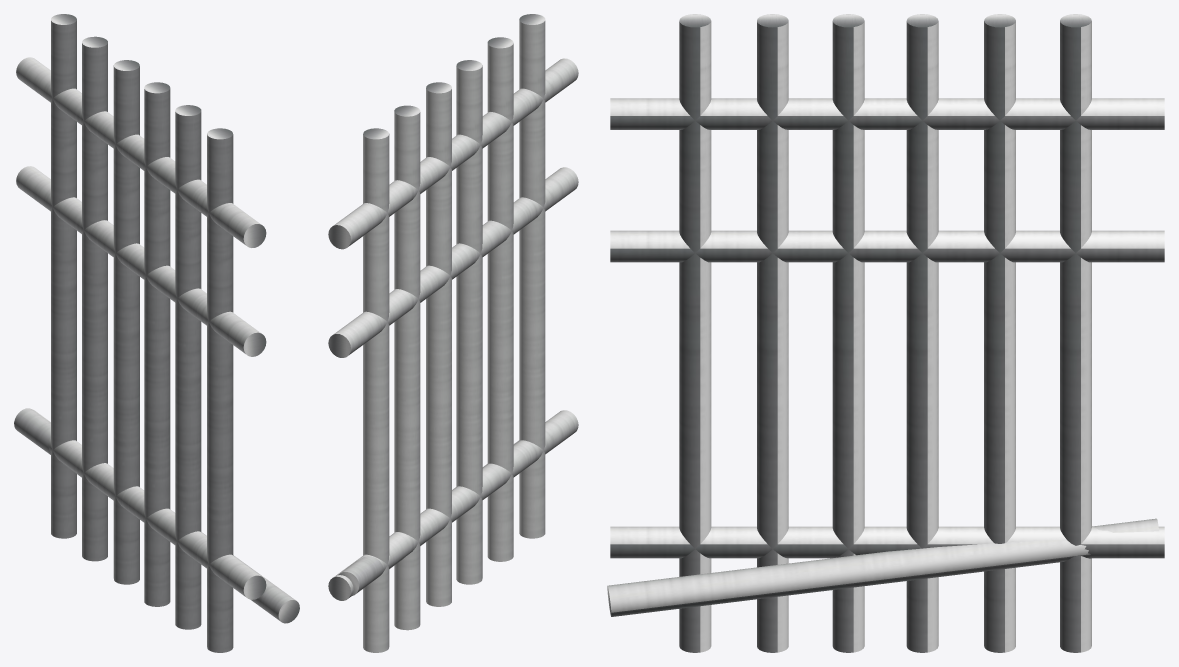
File: bar-anim.fbx
3 views of the same model, side by side, from view 1: azimuth 30°, elevation 25°; view 2: azimuth 150°, elevation 25°; view 3: azimuth 270°, elevation 25° (orthographic). The views are drawn at different scales.
Parts seen in each view (by area): view 1: pCylinder7, pCylinder10, pCylinder9, pCylinder8, pCylinder6, pCylinder5, pCylinder12, pCylinder11, pCylinder14, pCylinder13; view 2: pCylinder8, pCylinder6, pCylinder9, pCylinder5, pCylinder10, pCylinder7, pCylinder12, pCylinder11, pCylinder14, pCylinder13; view 3: pCylinder5, pCylinder7, pCylinder9, pCylinder8, pCylinder6, pCylinder10, pCylinder13, pCylinder12, pCylinder11, pCylinder14.
Boxes of the visible parts, x1,y1,x2,y2 form: pCylinder7: (113, 60, 139, 584); pCylinder10: (175, 105, 201, 629); pCylinder9: (144, 82, 170, 606); pCylinder8: (207, 128, 233, 652); pCylinder6: (82, 36, 107, 561); pCylinder5: (51, 14, 76, 538); pCylinder12: (16, 166, 266, 356); pCylinder11: (16, 57, 266, 247); pCylinder14: (33, 409, 266, 599); pCylinder13: (14, 408, 299, 623); pCylinder8: (519, 14, 545, 538); pCylinder6: (394, 105, 420, 630); pCylinder9: (456, 60, 482, 584); pCylinder5: (363, 128, 389, 652); pCylinder10: (487, 37, 513, 561); pCylinder7: (426, 82, 451, 606); pCylinder12: (328, 167, 578, 357); pCylinder11: (328, 58, 578, 249); pCylinder14: (328, 410, 578, 600); pCylinder13: (338, 440, 519, 596); pCylinder5: (1060, 14, 1091, 652); pCylinder7: (906, 14, 938, 652); pCylinder9: (832, 14, 864, 652); pCylinder8: (679, 14, 711, 652); pCylinder6: (984, 14, 1015, 652); pCylinder10: (757, 14, 788, 652); pCylinder13: (607, 518, 1159, 616); pCylinder12: (610, 230, 1164, 262); pCylinder11: (610, 98, 1164, 129); pCylinder14: (610, 526, 1164, 558).
Bounding box in the file's own units: 8.5 × 67.72 × 54.69.
Materials: 1 (1 with a texture image).
